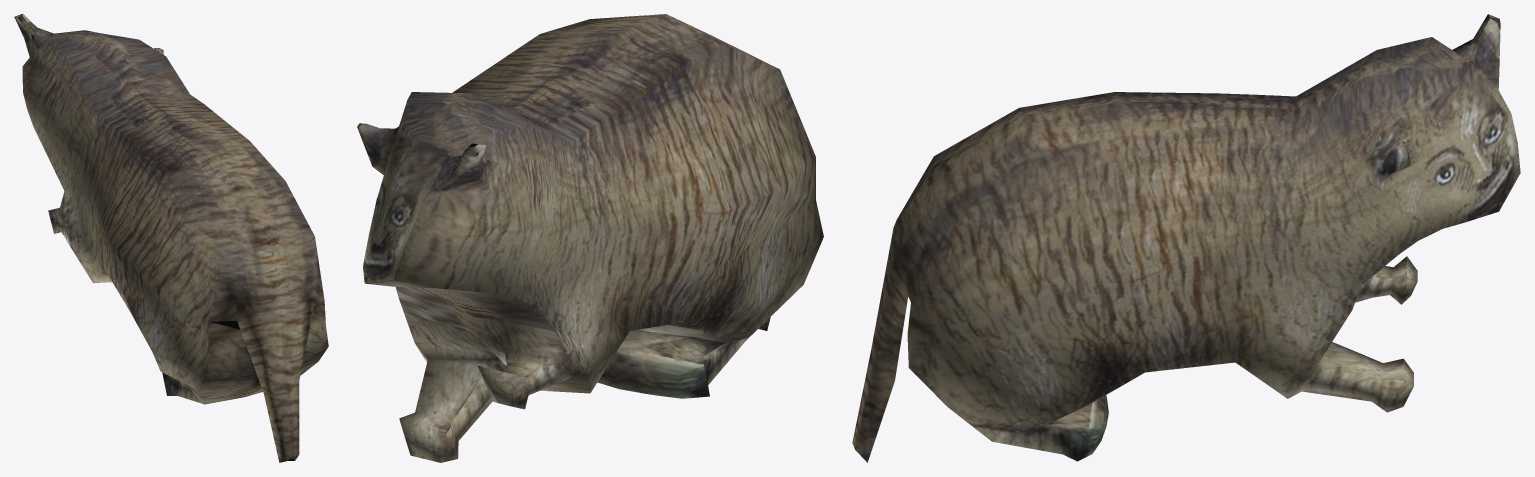
Rendered from CatChubby.fbx.
3 views of the same model, side by side, from view 1: azimuth 30°, elevation 25°; view 2: azimuth 150°, elevation 25°; view 3: azimuth 270°, elevation 25° (orthographic). The views are drawn at different scales.
Parts seen in each view (by area): view 1: ChubbyCat; view 2: ChubbyCat; view 3: ChubbyCat.
Part boxes in pixels (x1=…): ChubbyCat: x1=14, y1=14, x2=328, y2=462; ChubbyCat: x1=357, y1=14, x2=823, y2=462; ChubbyCat: x1=852, y1=14, x2=1520, y2=462.
Size of the model in its own units: 124 by 209 by 307.
